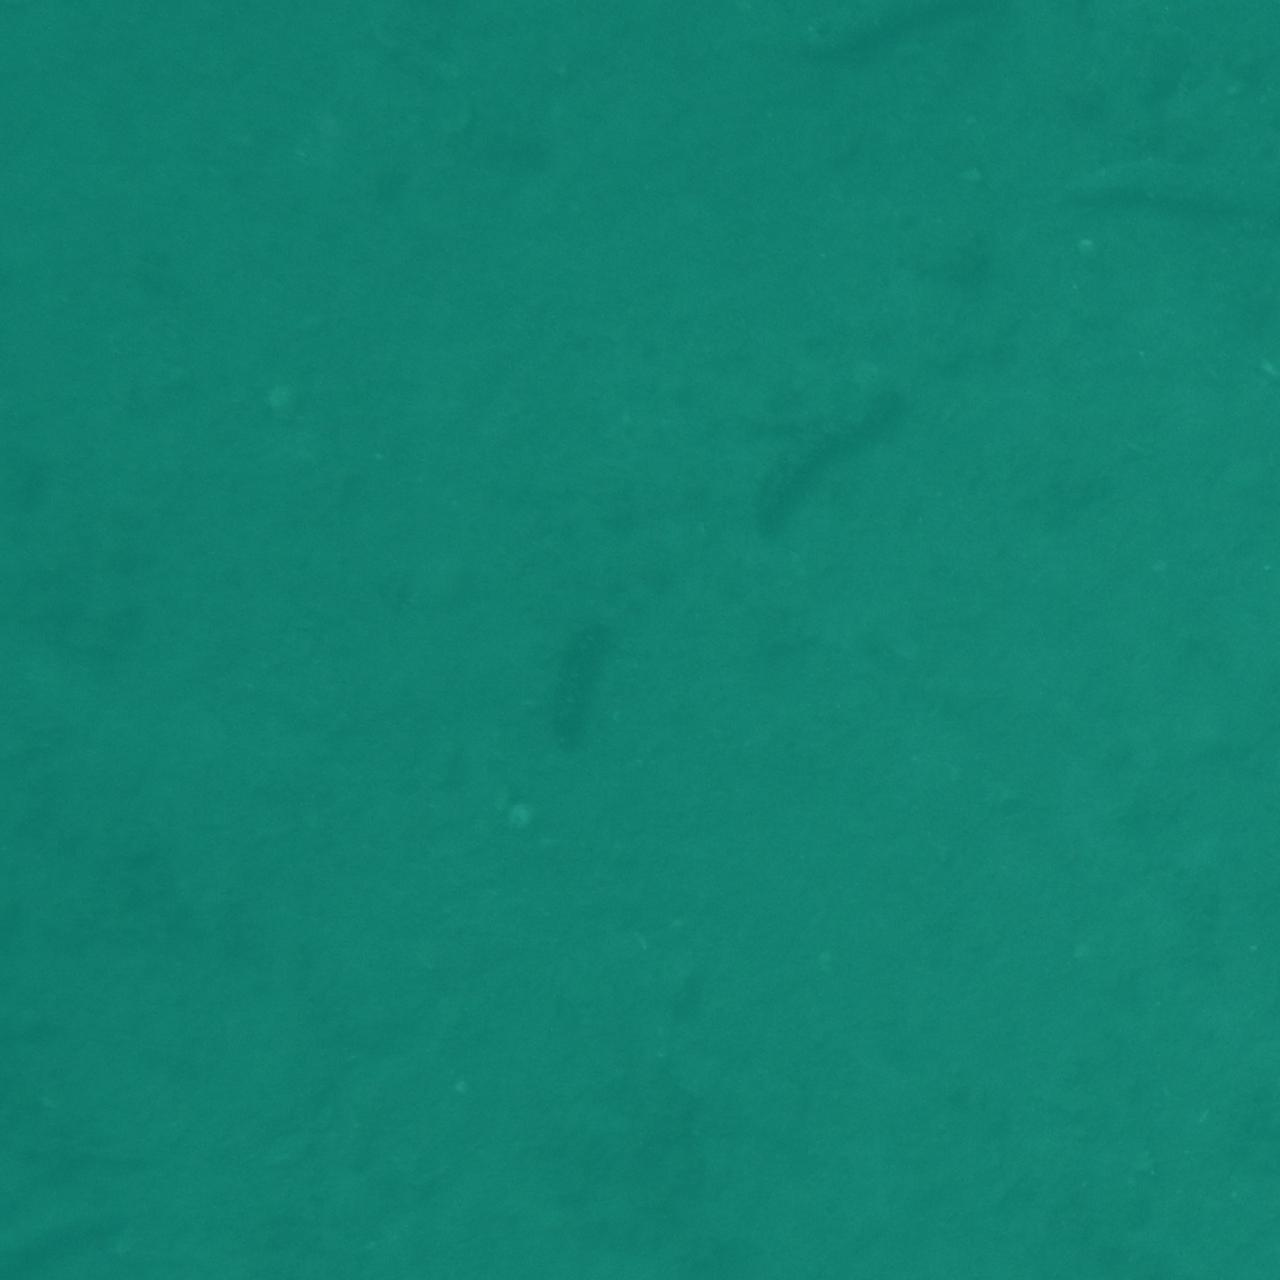Holothuria tubulosa: (756, 340, 949, 547), (525, 566, 633, 811), (1058, 143, 1280, 240), (0, 1153, 156, 1280), (286, 1150, 428, 1280), (802, 0, 1047, 74), (409, 0, 617, 84), (0, 1123, 103, 1280), (0, 259, 109, 395), (0, 1030, 98, 1171), (1164, 0, 1280, 94), (0, 1172, 97, 1280), (0, 0, 154, 56), (1193, 0, 1280, 91), (0, 1148, 52, 1280), (0, 0, 82, 64)
